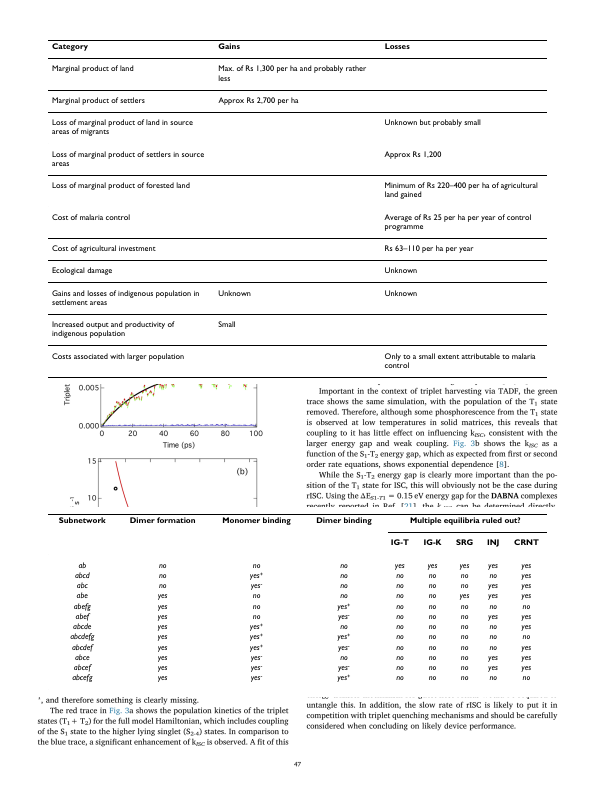borderless: (47, 38, 547, 377), (46, 512, 548, 691)
cell: (50, 150, 205, 169), (383, 181, 538, 200), (383, 352, 536, 371), (217, 65, 367, 84), (50, 289, 200, 308), (383, 213, 532, 232), (50, 118, 193, 137), (50, 320, 175, 339), (50, 181, 190, 191), (50, 352, 185, 362), (50, 244, 156, 254), (408, 517, 521, 526), (383, 118, 481, 128), (50, 96, 145, 106), (383, 244, 474, 254), (217, 96, 299, 106), (50, 213, 131, 223), (50, 65, 134, 74), (221, 517, 291, 526), (128, 517, 196, 526), (383, 150, 442, 160), (50, 267, 113, 276), (315, 517, 372, 526), (57, 517, 106, 526), (383, 289, 418, 299), (50, 43, 88, 52), (217, 289, 251, 299), (383, 267, 418, 276), (383, 43, 410, 52), (513, 539, 539, 548), (69, 633, 95, 642), (70, 643, 93, 653), (217, 43, 240, 52), (71, 674, 93, 683), (217, 320, 236, 330), (72, 602, 91, 612), (389, 539, 409, 548), (422, 539, 442, 548), (454, 539, 474, 548), (72, 623, 92, 632), (72, 664, 91, 673), (73, 571, 90, 581), (73, 653, 90, 663), (74, 612, 90, 622), (249, 571, 264, 581), (336, 602, 351, 612), (249, 643, 264, 653), (249, 653, 263, 663), (485, 539, 500, 548), (249, 623, 264, 632), (249, 633, 264, 642), (336, 633, 351, 642), (336, 674, 351, 683), (337, 612, 350, 622), (337, 643, 350, 653), (249, 582, 263, 591), (249, 664, 263, 673), (249, 674, 263, 683), (426, 561, 438, 571), (458, 561, 470, 571), (520, 561, 532, 571), (520, 571, 532, 581), (156, 602, 168, 612), (156, 612, 168, 622), (520, 612, 532, 622), (156, 643, 168, 653), (520, 643, 532, 653), (156, 653, 168, 663), (520, 653, 532, 663), (75, 582, 88, 591), (75, 592, 88, 601), (337, 664, 350, 673), (394, 561, 405, 571), (487, 561, 498, 571), (487, 612, 498, 622), (487, 653, 498, 663), (520, 582, 532, 591), (156, 592, 168, 601), (458, 592, 470, 601), (520, 592, 532, 601), (156, 623, 168, 632), (520, 623, 532, 632), (156, 633, 168, 642), (156, 664, 168, 673), (520, 664, 532, 673), (156, 674, 168, 683), (77, 561, 87, 571), (157, 561, 167, 571), (251, 561, 261, 571), (157, 571, 167, 581), (427, 571, 437, 581), (459, 571, 469, 581), (251, 602, 261, 612), (427, 602, 437, 612), (459, 602, 469, 612), (521, 602, 531, 612), (251, 612, 261, 622), (427, 612, 437, 622), (459, 612, 469, 622), (427, 643, 437, 653), (459, 643, 469, 653), (427, 653, 437, 663), (459, 653, 469, 663), (487, 582, 498, 591), (487, 592, 498, 601), (487, 664, 498, 673), (339, 561, 348, 571), (339, 571, 348, 581), (395, 571, 404, 581), (488, 571, 497, 581), (157, 582, 167, 591), (427, 582, 437, 591), (459, 582, 469, 591), (251, 592, 261, 601), (427, 592, 437, 601), (395, 602, 404, 612), (488, 602, 497, 612), (395, 612, 404, 622), (427, 623, 437, 632), (459, 623, 469, 632), (427, 633, 437, 642), (459, 633, 469, 642), (521, 633, 531, 642), (395, 643, 404, 653), (488, 643, 497, 653), (339, 653, 348, 663), (395, 653, 404, 663), (427, 664, 437, 673), (459, 664, 469, 673), (427, 674, 437, 683), (459, 674, 469, 683), (521, 674, 531, 683), (339, 582, 348, 591), (395, 582, 404, 591), (339, 592, 348, 601), (395, 592, 404, 601), (339, 623, 348, 632), (395, 623, 404, 632), (488, 623, 497, 632), (395, 633, 404, 642), (488, 633, 497, 642), (395, 664, 404, 673), (395, 674, 404, 683), (488, 674, 497, 683)
